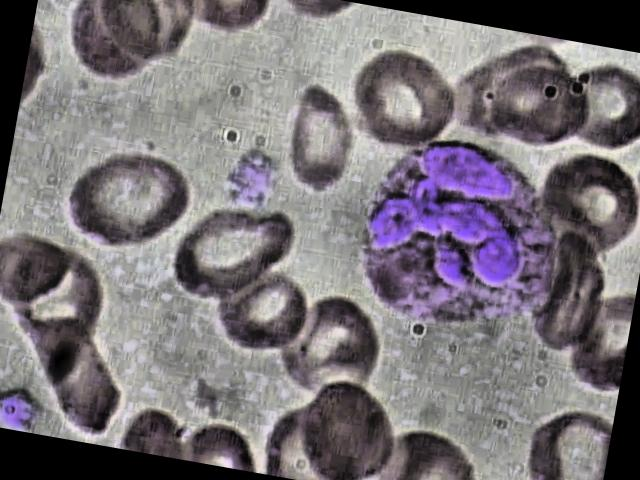Platelets: (214, 137, 286, 212), (0, 382, 46, 433)
RBC: (55, 136, 198, 259), (162, 193, 305, 316), (252, 286, 396, 408), (164, 196, 307, 318), (341, 39, 464, 164), (14, 315, 131, 437), (281, 370, 404, 480), (528, 148, 640, 262), (478, 58, 594, 156), (548, 51, 640, 165), (274, 84, 362, 200), (214, 264, 310, 358), (507, 396, 613, 480), (555, 286, 634, 396), (0, 226, 80, 311)
WBC: (340, 120, 588, 358)
